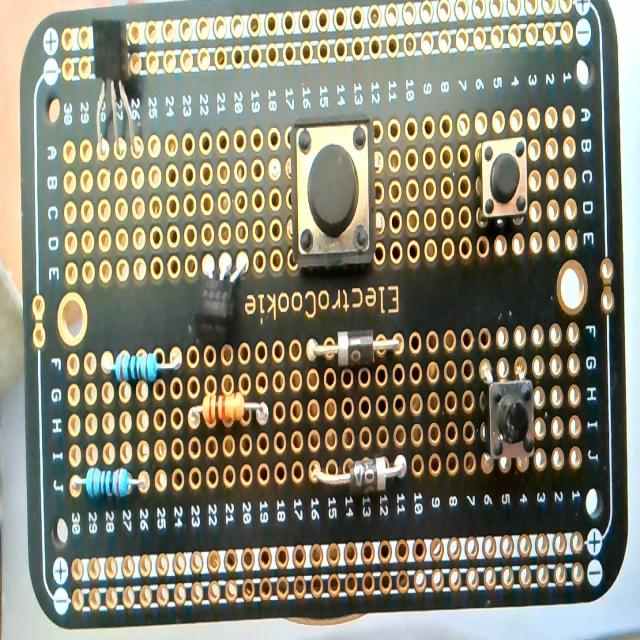diode: (314, 451, 411, 492), (308, 329, 402, 366)
resistor: (188, 389, 270, 427), (102, 347, 182, 385), (73, 466, 147, 498)
switch: (293, 119, 373, 265), (478, 136, 528, 226), (486, 376, 535, 465)
transistor: (78, 14, 146, 176), (193, 241, 257, 349)
